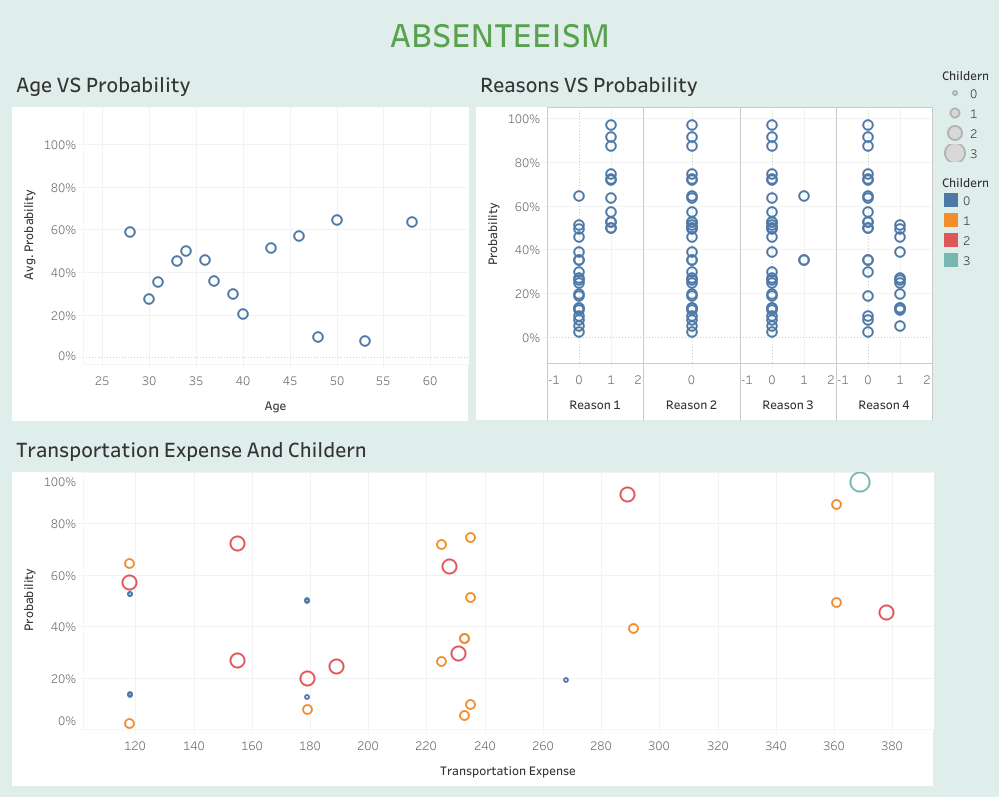

Layout of this report page (visuals, bound fields, positions):
{"tool":"tableau","page":{"name":"Dashboard 1","canvas":[1000,1000],"units":"permille","ordinal":0},"visuals":[{"type":"title","box":[4.7,8.8,990.6,57.5]},{"type":"worksheet","title":"age vs probability","mark":"Shape","rows":["probability"],"cols":["age"],"box":[4.7,66.4,307.9,462.4]},{"type":"worksheet","title":"reasons vs probability","mark":"Shape","rows":["probability"],"cols":["reason_1","reason_2","reason_3","reason_4"],"box":[312.6,66.4,406.5,462.4]},{"type":"legend","title":"transportation expense and clildern","param":"[federated.0s0mi9d1nsdv3116m80tx1fqea8n].[none:childern:ok]","box":[719.1,66.4,276.2,117.3]},{"type":"legend","title":"transportation expense and clildern","param":"[federated.0s0mi9d1nsdv3116m80tx1fqea8n].[none:childern:ok]","box":[719.1,183.6,276.2,117.3]},{"type":"worksheet","title":"transportation expense and clildern","mark":"Shape","rows":["probability"],"cols":["transportation_expense"],"box":[4.7,528.7,714.5,462.4]}]}

Visuals, with their boxes on the dashboard's canvas, which has no fixed pixel size, in thousandths of its width and height (x1, y1, x2, y2). These are canvas units, not pixel positions in the 999x797 screenshot, which may show the page scaled, cropped or inside an application window:
title: Rect(5, 9, 995, 66)
"age vs probability" worksheet (Shape marks): Rect(5, 66, 313, 529)
"reasons vs probability" worksheet (Shape marks): Rect(313, 66, 719, 529)
"transportation expense and clildern" legend: Rect(719, 66, 995, 184)
"transportation expense and clildern" legend: Rect(719, 184, 995, 301)
"transportation expense and clildern" worksheet (Shape marks): Rect(5, 529, 719, 991)
